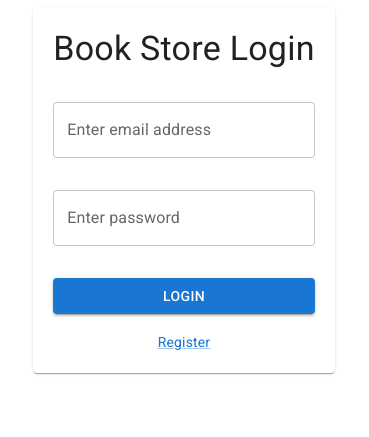
Test case: Login test › should show  email and password invalid message
Type "email invalid" into the field labelled "Enter email address" at point(184, 130), box [53,102,315,158]
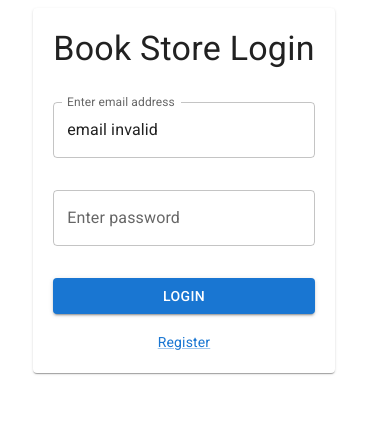
Type "wrongP" into the field labelled "Enter password" at point(184, 218), box [53,190,315,246]
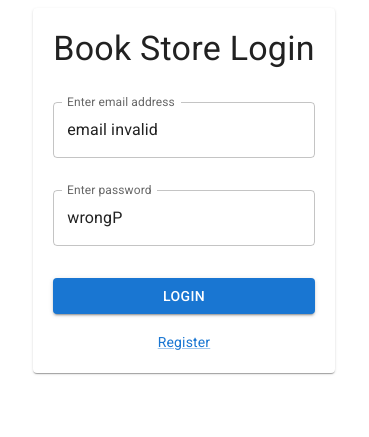
Submit the form from the button "Login", box [53,278,315,314]
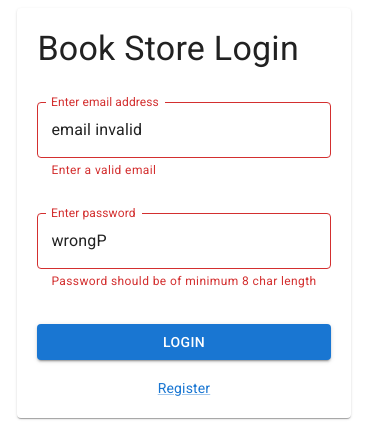
Expected: the text "Enter a valid email" is shown, [51,163,156,177]
Expected: the text "Password should be of minimum 8 char length" is shown, [51,272,317,292]
